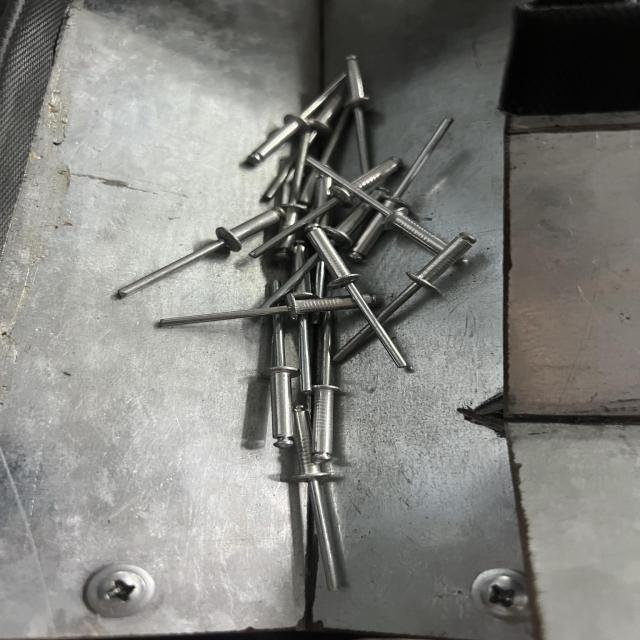rivet: (116, 207, 284, 301), (306, 226, 412, 372), (287, 407, 354, 595), (158, 292, 375, 334)
